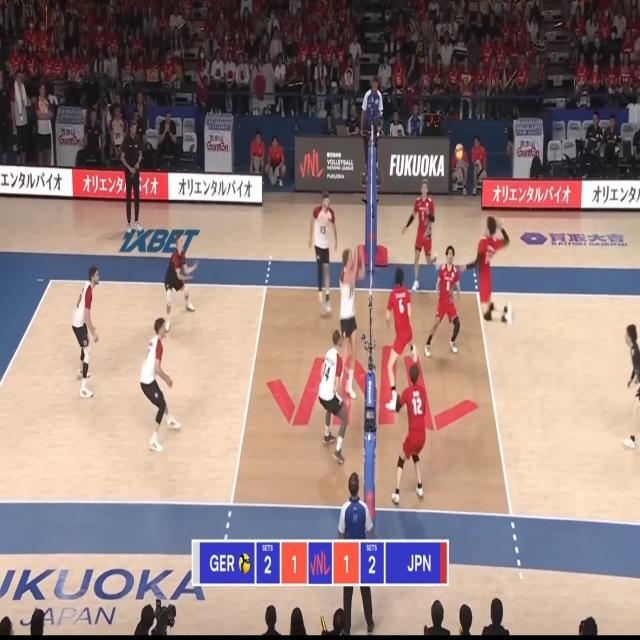ball: (455, 144, 462, 160)
